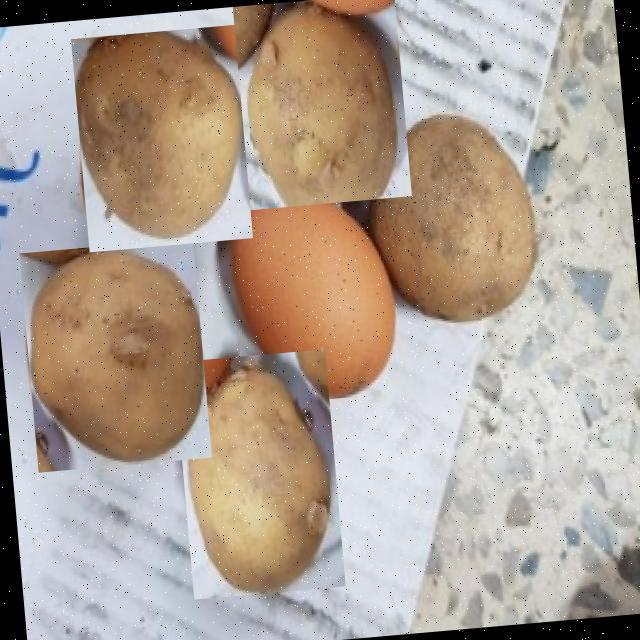Potato: (19, 238, 212, 472), (358, 99, 548, 333), (173, 349, 345, 599), (70, 25, 252, 252), (232, 0, 411, 209)
